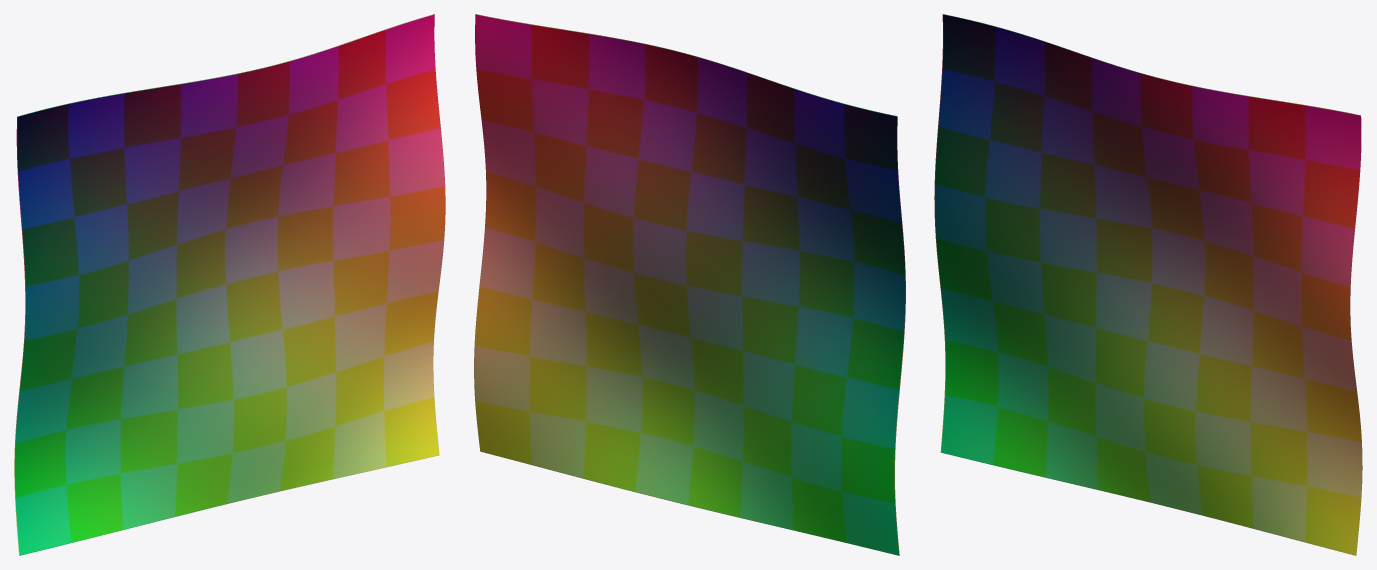
The model's file is Tile_+017_+008.obj.
3 views of the same model, side by side, from view 1: azimuth 30°, elevation 25°; view 2: azimuth 150°, elevation 25°; view 3: azimuth 330°, elevation 25° (orthographic).
Bounding box in the file's own units: 100 × 100 × 6.56.
